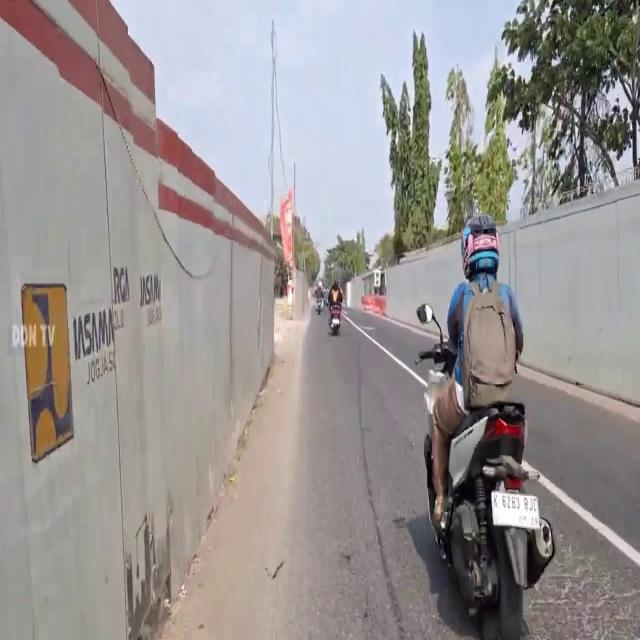WithHelmet: (427, 214, 527, 532), (329, 278, 343, 319), (314, 280, 324, 302)
